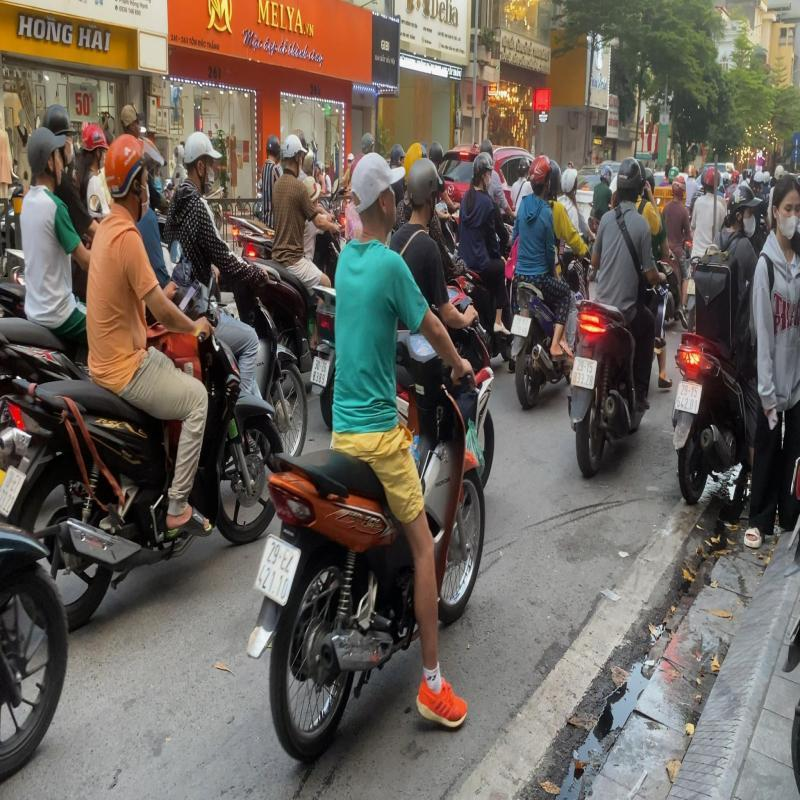nohelmet: (348, 148, 407, 240)
